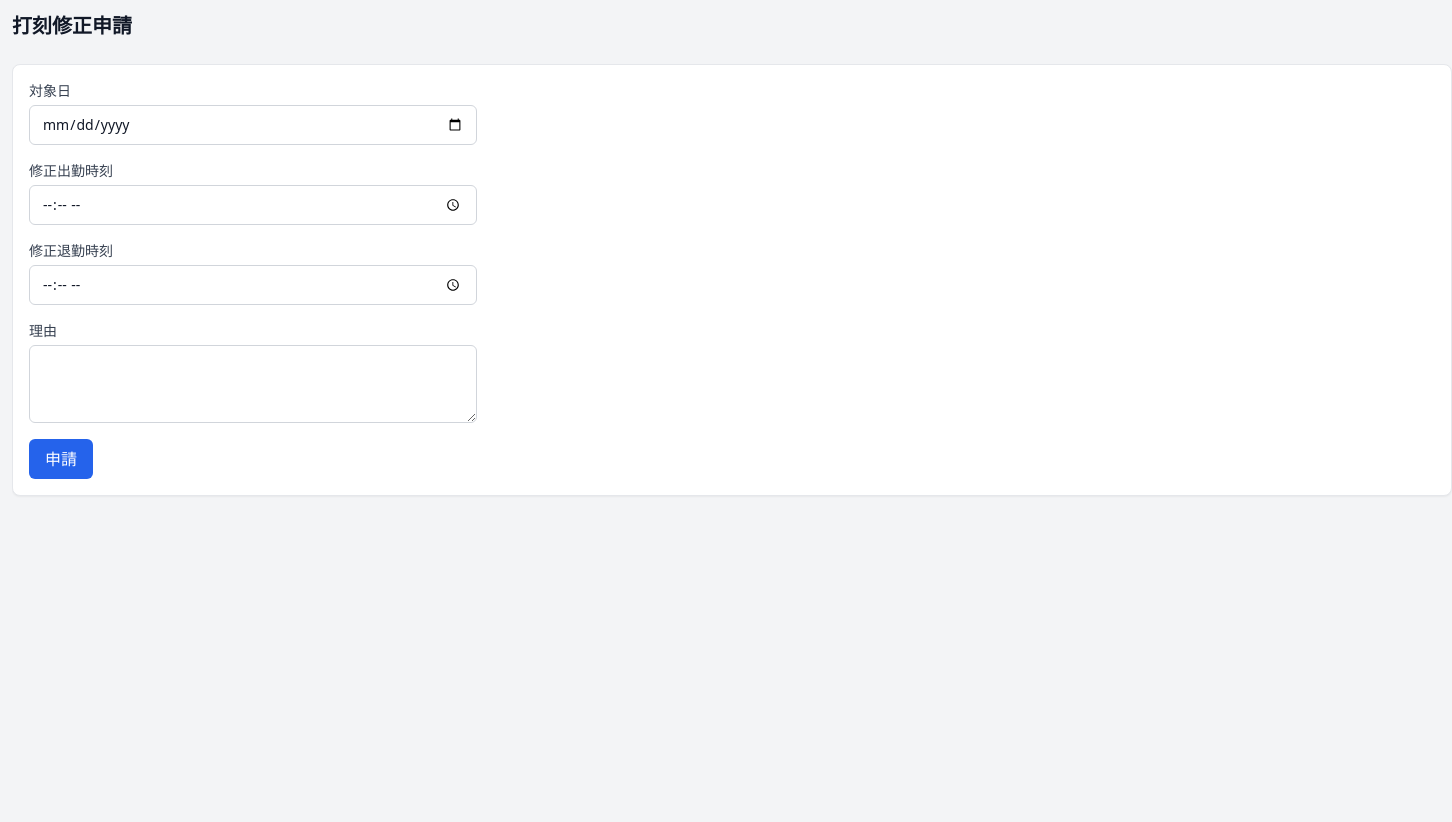
Scenario: CorrectionsNewPage › 対象日未入力で申請するとバリデーションエラーが表示される
Click the button "申請". click: (61,459)
box: [29,439,93,479]
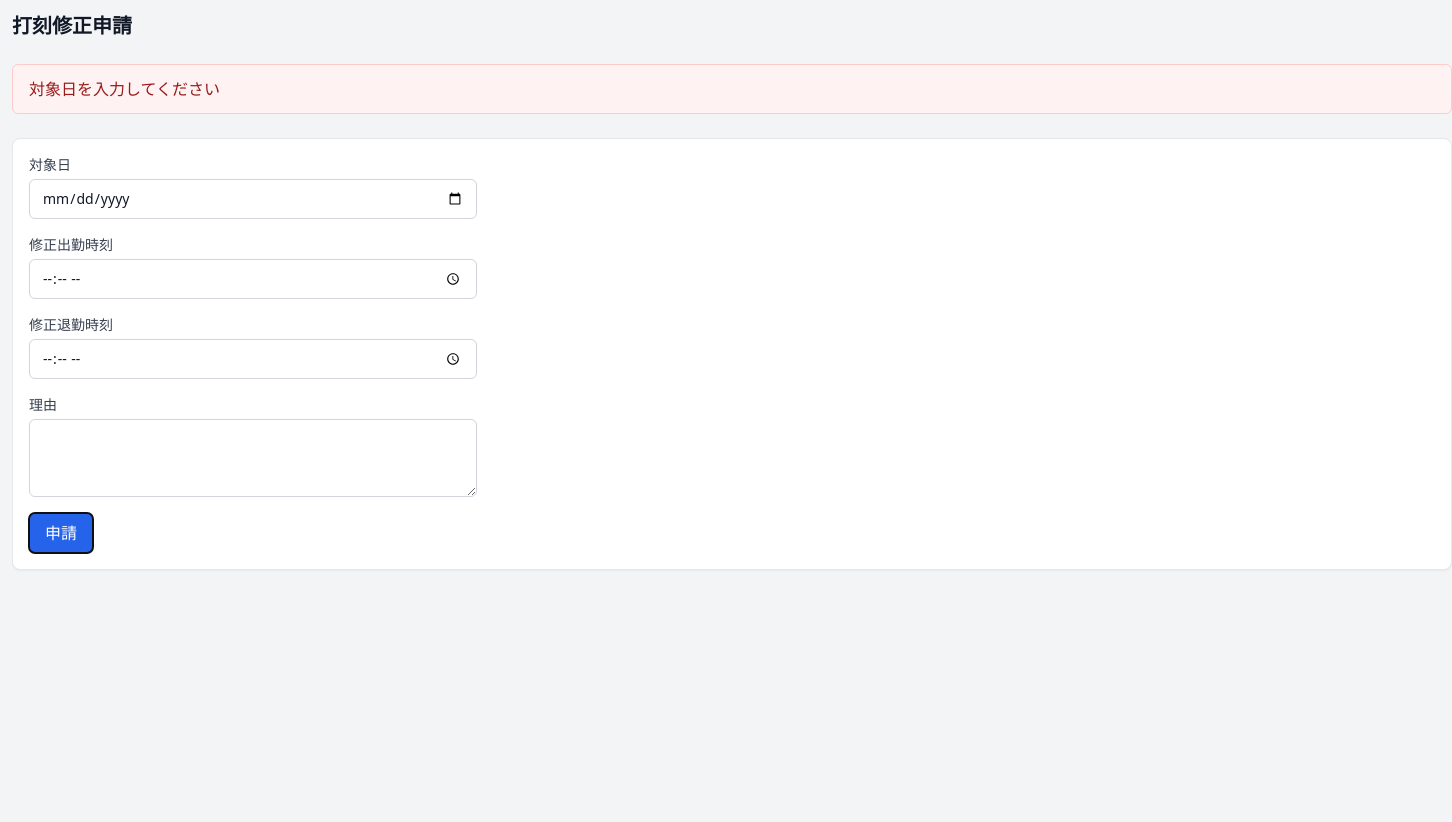
Expected: the text "対象日を入力してください" is shown, [12,64,1451,114]
